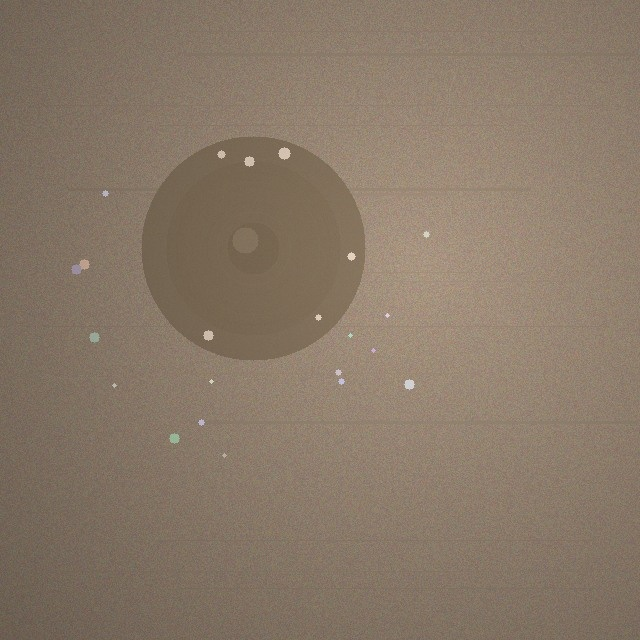overburn: (141, 136, 365, 360)
